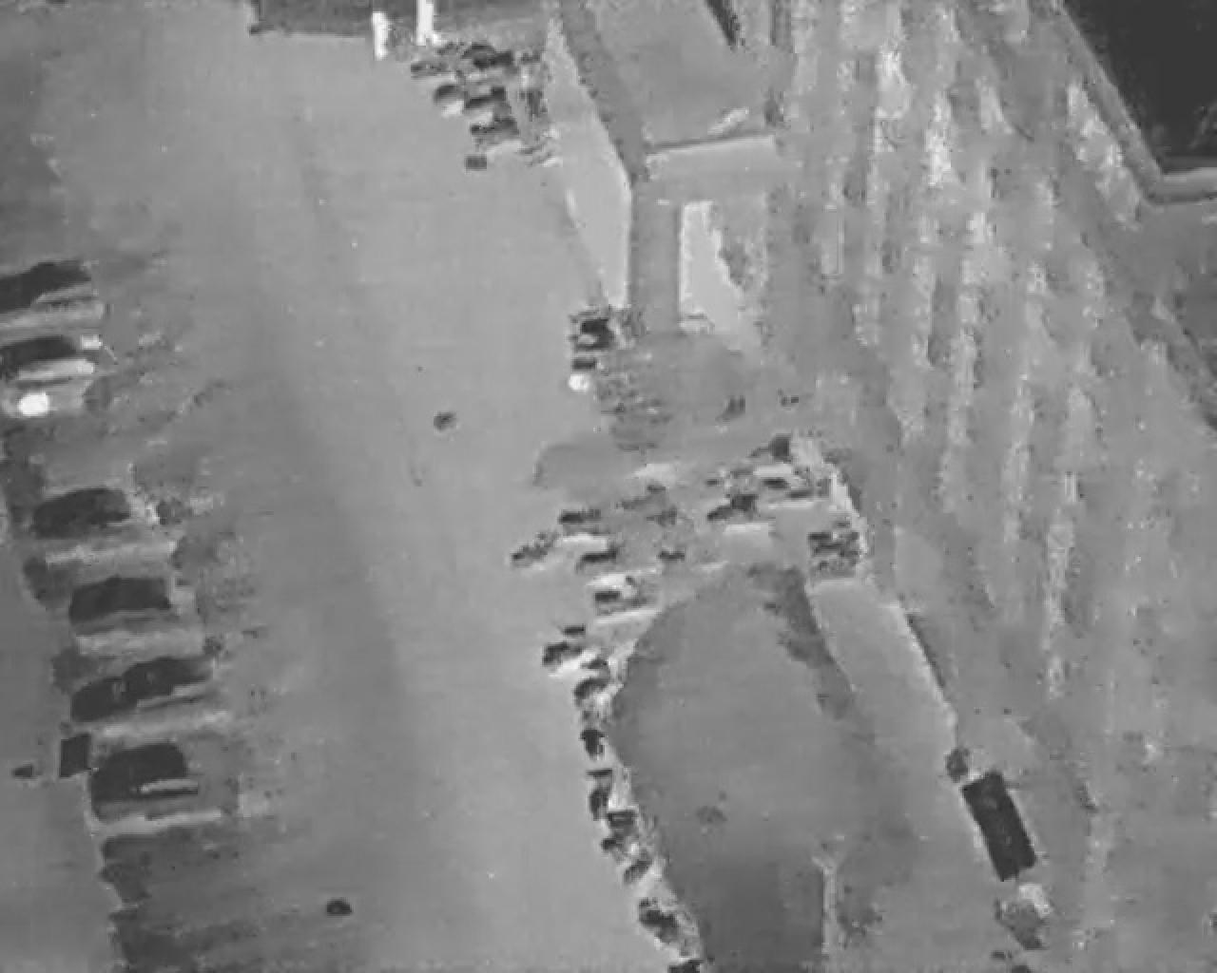person: (414, 1, 444, 50), (372, 7, 395, 62)
